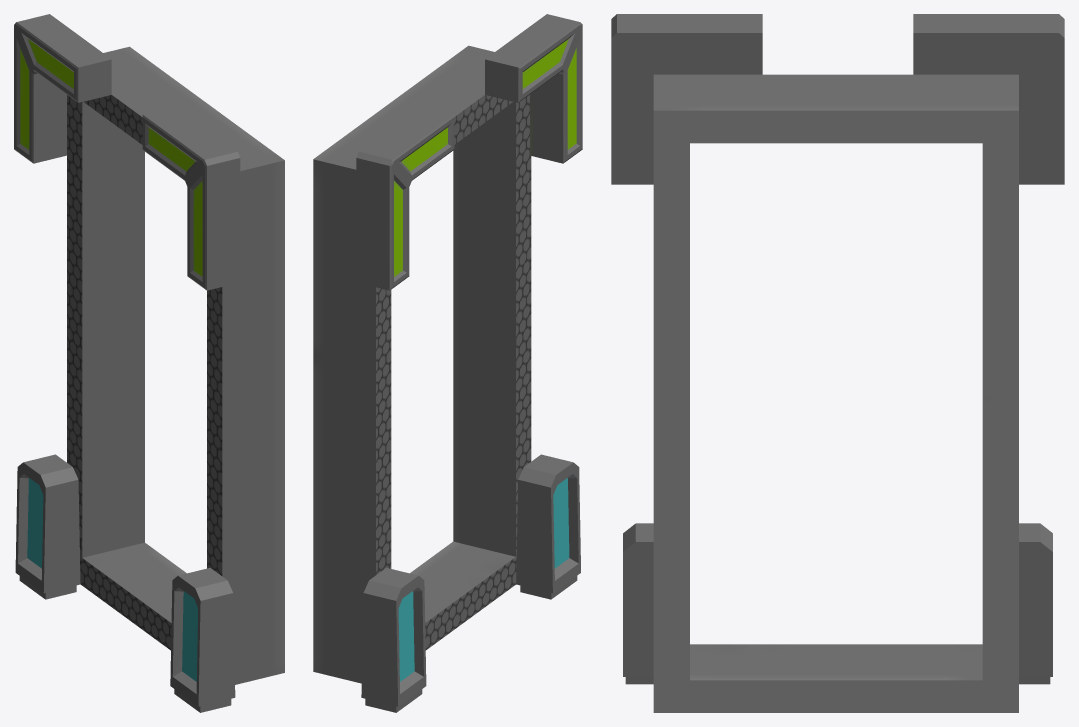
The picture shows the model from 3 angles, left to right: view 1: azimuth 30°, elevation 25°; view 2: azimuth 150°, elevation 25°; view 3: azimuth 270°, elevation 25°; orthographic projection. The views are drawn at different scales.
Parts seen in each view (by area): view 1: SM_B3_D_SM_B3_D_B; view 2: SM_B3_D_SM_B3_D_B; view 3: SM_B3_D_SM_B3_D_B.
Boxes of the visible parts, box(x1,y1,x2,y2) form: SM_B3_D_SM_B3_D_B: box(14, 14, 284, 712); SM_B3_D_SM_B3_D_B: box(313, 14, 582, 712); SM_B3_D_SM_B3_D_B: box(611, 14, 1064, 712).
Size of the model in its own units: 55.97 by 188 by 299.
Materials: 1 (1 with a texture image).
